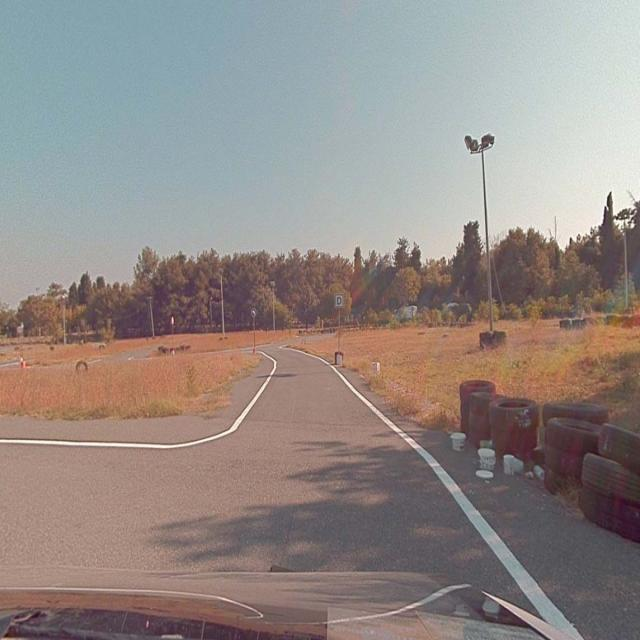durak: (335, 294, 344, 306)
